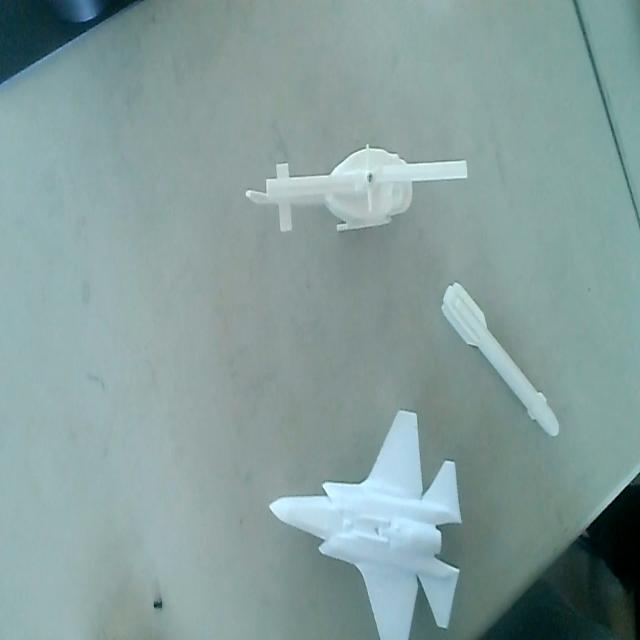Helicopter: (240, 138, 472, 244)
Jet: (268, 408, 471, 640)
Rocket: (438, 269, 563, 444)
